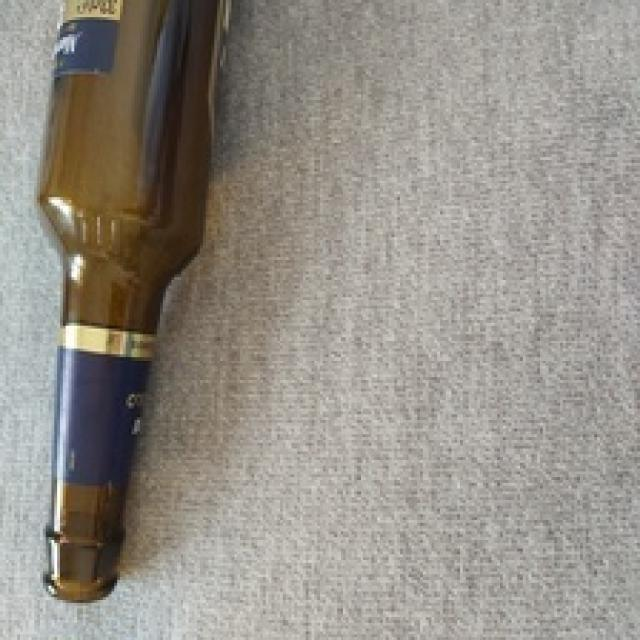Glass: (38, 0, 234, 603)
